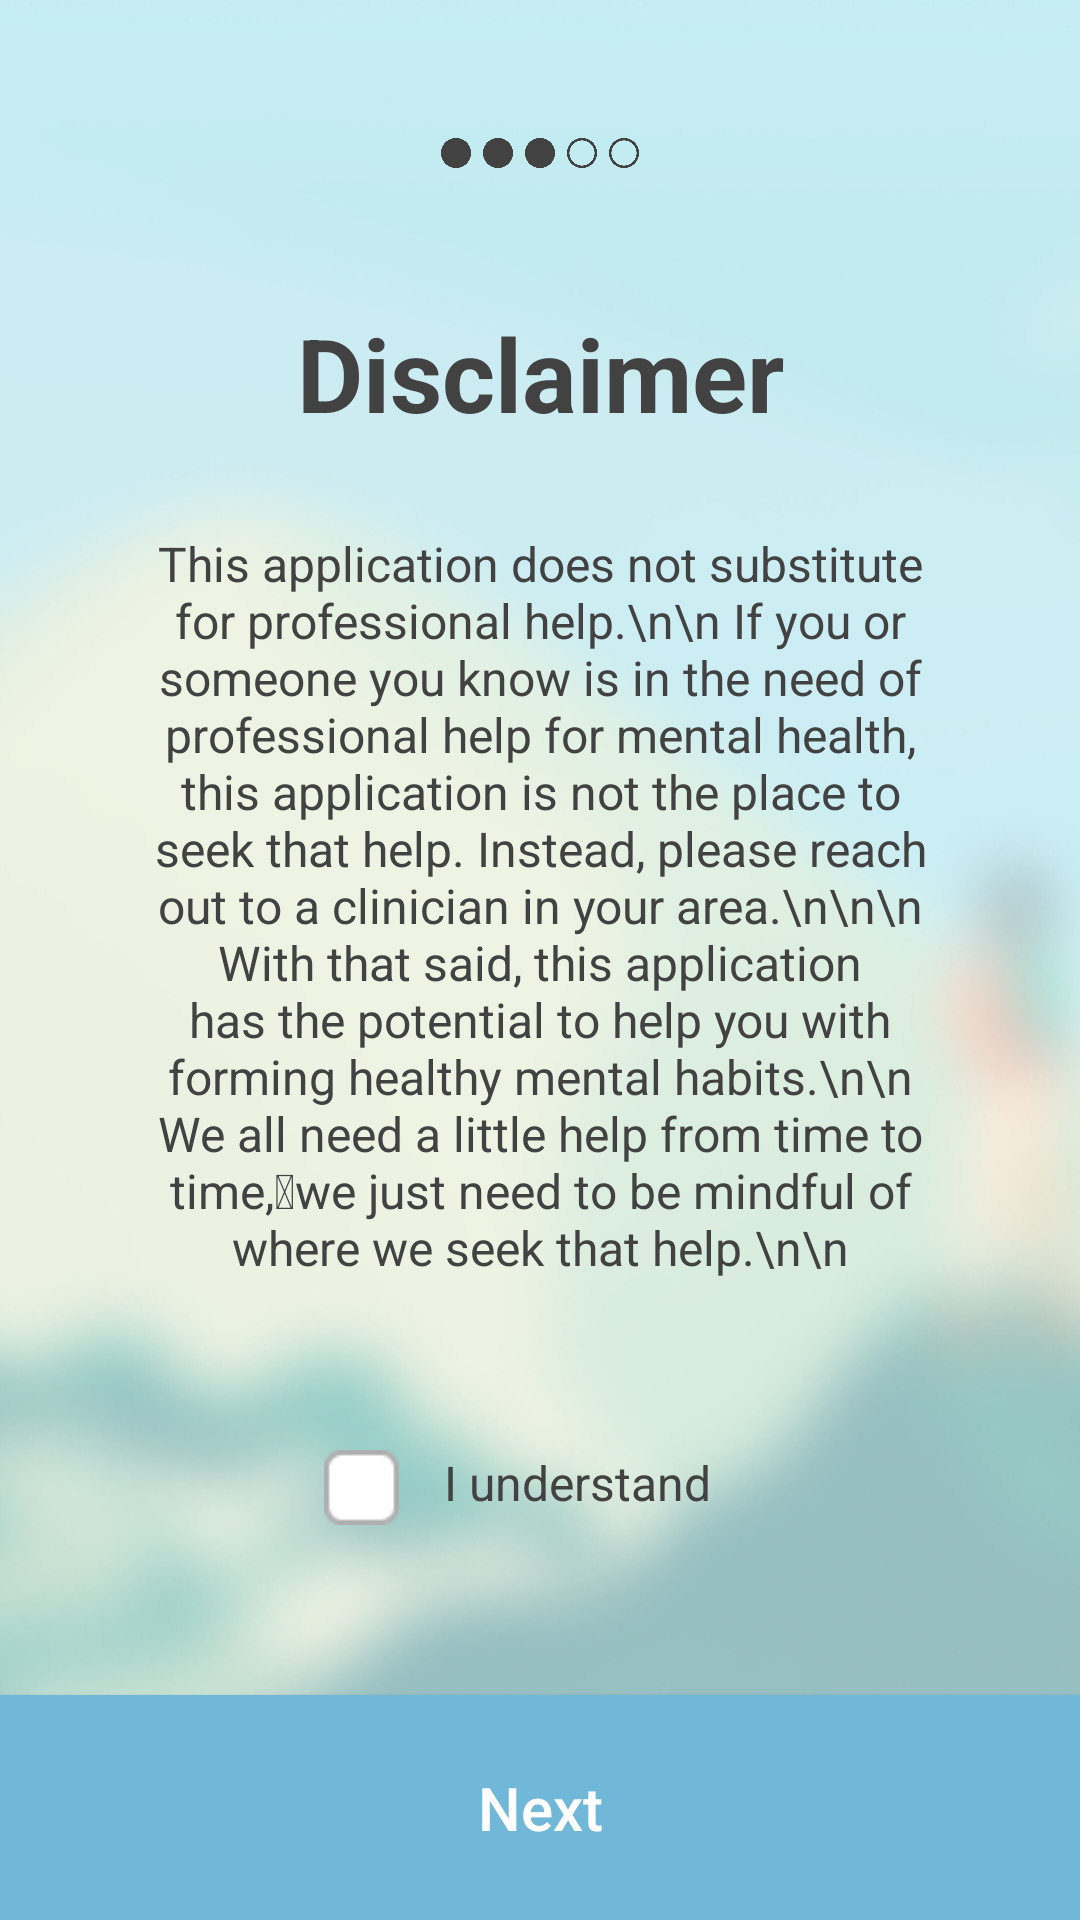

Screen size 1080px x 1920px. Icon name, then its center in pixels as (x=x, y=y):
dot: (x=456, y=153), (x=498, y=153), (x=540, y=153)
unchecked box: (x=361, y=1487)
unfilled dot: (x=582, y=153), (x=624, y=153)
